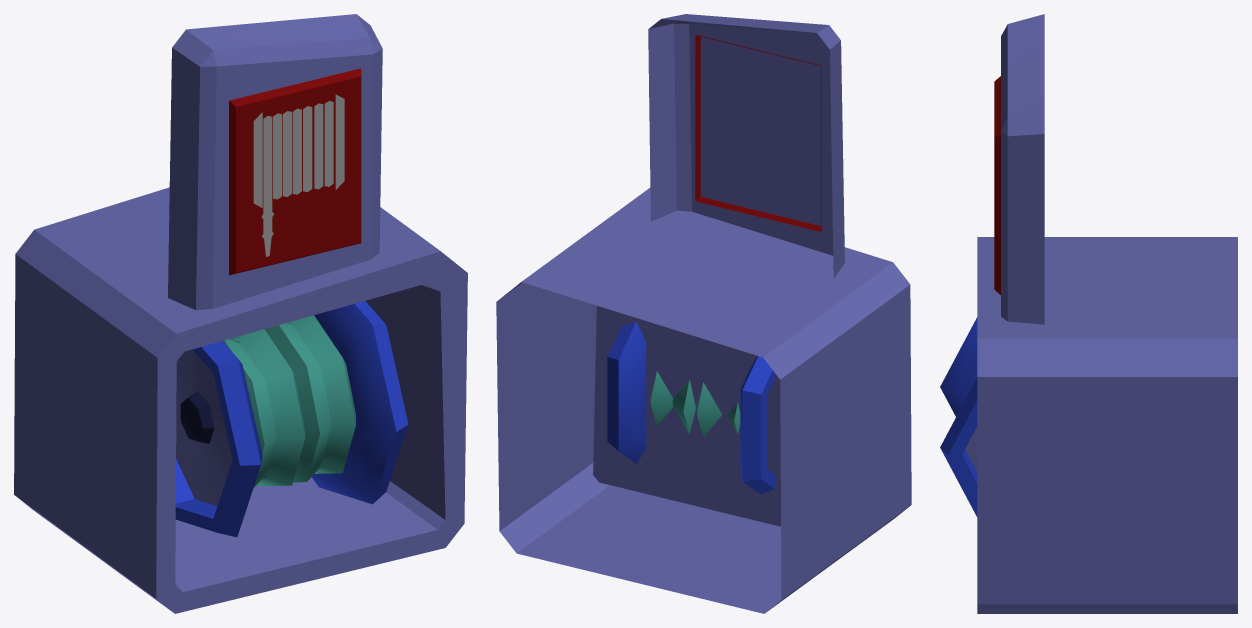
File: MDL_MangueraRollo.FBX
3 views of the same model, side by side, from view 1: azimuth 30°, elevation 25°; view 2: azimuth 150°, elevation 25°; view 3: azimuth 270°, elevation 25° (orthographic). The views are drawn at different scales.
Parts seen in each view (by area): view 1: Box009; view 2: Box009; view 3: Box009.
Part boxes in pixels (bbox=[...]): Box009: bbox=[14, 14, 467, 613]; Box009: bbox=[496, 14, 911, 613]; Box009: bbox=[940, 14, 1237, 613].
Size of the model in its own units: 75.75 by 127 by 68.43.
